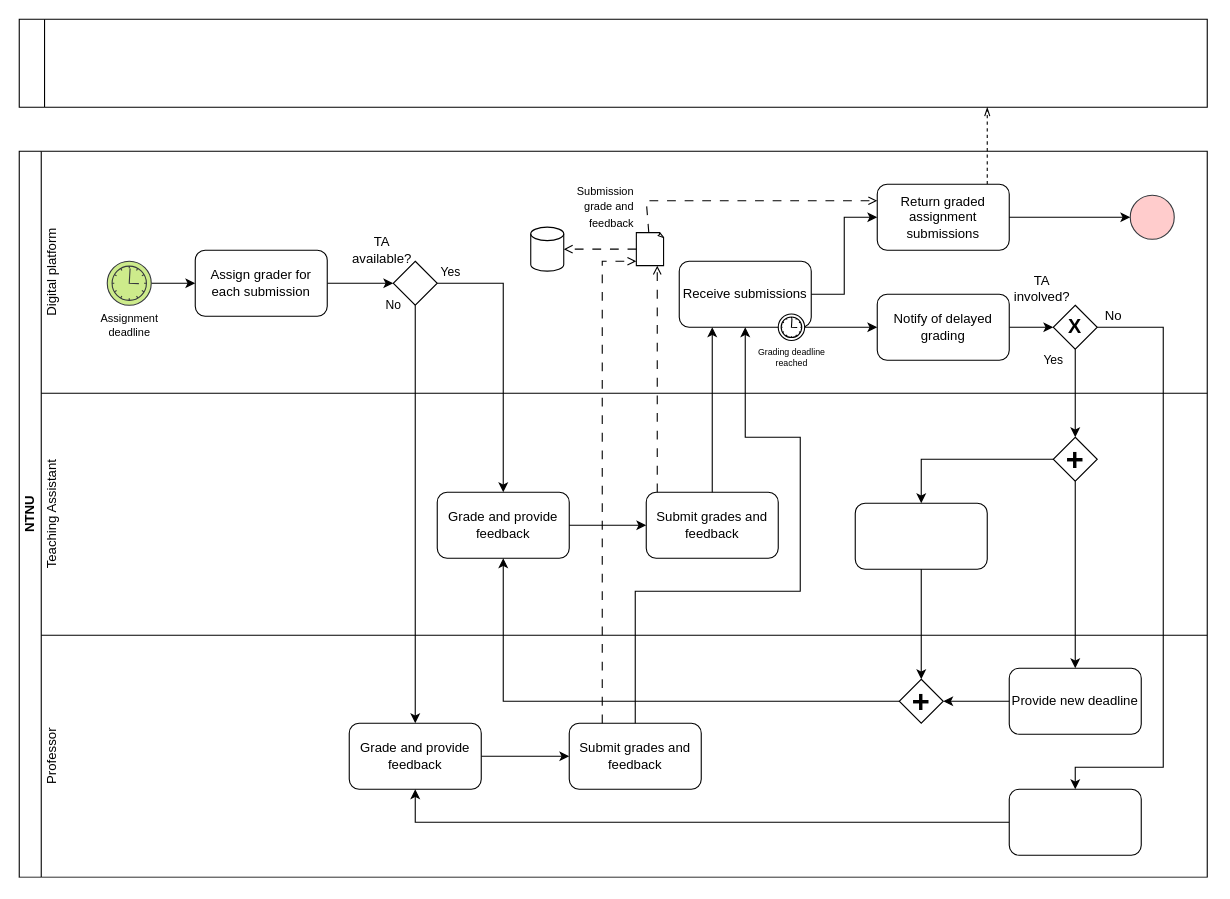
The diagram is 1230 pixels wide and 899 high, and some of its shapes have lost their labels. The box of each missing label's shape, as (x1, y1, x2, y2) in pixels:
Blackboard database: (530, 226, 564, 271)
Explain delay: (1008, 788, 1141, 855)
Grading finished: (1129, 194, 1174, 239)
Receive warning: (854, 502, 987, 569)
Student: (18, 18, 1207, 107)
